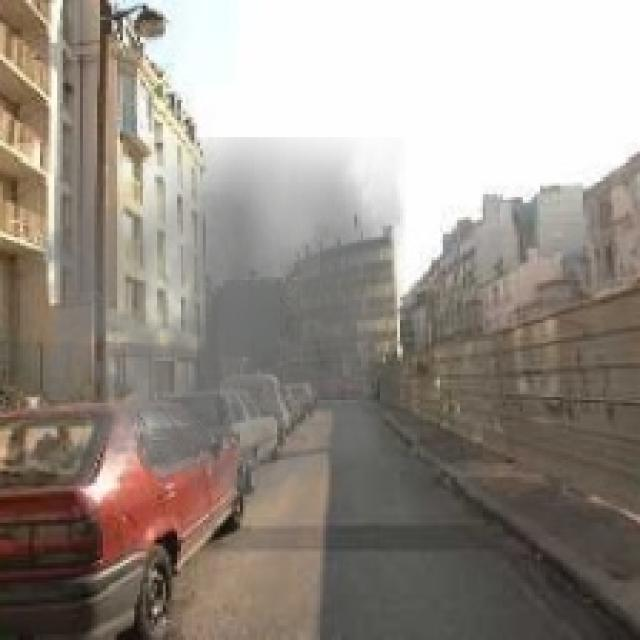Smoke: (20, 137, 406, 532)
